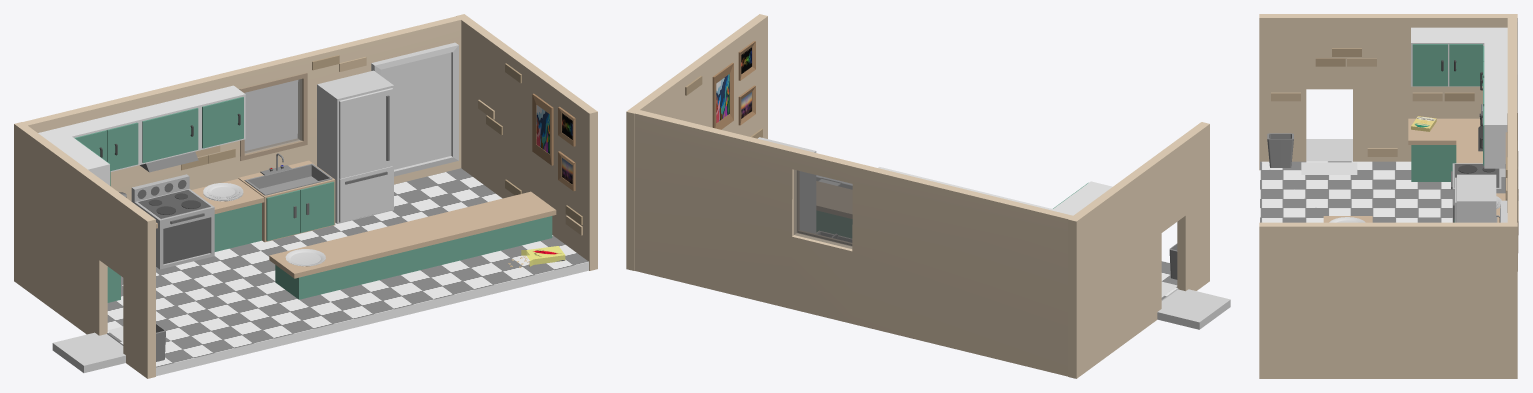
Rendered from Kitchen texture.fbx.
The picture shows the model from 3 angles, left to right: view 1: azimuth 30°, elevation 25°; view 2: azimuth 150°, elevation 25°; view 3: azimuth 270°, elevation 25°; orthographic projection. The views are drawn at different scales.
Parts seen in each view (by area): view 1: pCube1, pCube3, pCube4, pCube2, pCube22, pCube5, Fridge, pCube11, pCube12, pCube13, pCube14, pCube6 (+9 smaller); view 2: pCube2, pCube3, pCube4, pCube14, pCube7, pCube22, pCube5, pCube28, Fridge, pCube29, pCube27; view 3: pCube4, pCube3, pCube1, pCube5, pCube6, pCube2, Fridge, pCube7, pCube44, pCube23, pCube12, pCube38 (+7 smaller).
Part boxes in pixels (x1,y1,x2,y2): pCube1: [107, 168, 588, 376]; pCube3: [14, 122, 155, 378]; pCube4: [456, 14, 597, 270]; pCube2: [22, 14, 468, 201]; pCube22: [269, 191, 556, 299]; pCube5: [38, 85, 245, 185]; Fridge: [317, 70, 393, 223]; pCube11: [371, 42, 458, 176]; pCube12: [131, 174, 214, 269]; pCube13: [238, 160, 335, 242]; pCube14: [244, 79, 301, 153]; pCube6: [107, 178, 264, 302]; pCube2: [627, 108, 1073, 376]; pCube3: [1068, 122, 1209, 378]; pCube4: [626, 14, 767, 270]; pCube14: [794, 170, 852, 248]; pCube7: [1157, 289, 1230, 329]; pCube22: [816, 181, 852, 238]; pCube5: [878, 167, 1112, 215]; pCube28: [712, 62, 733, 129]; Fridge: [758, 137, 816, 233]; pCube29: [738, 85, 755, 125]; pCube27: [738, 41, 755, 80]; pCube4: [1259, 222, 1517, 378]; pCube3: [1259, 14, 1517, 170]; pCube1: [1260, 161, 1452, 222]; pCube5: [1411, 27, 1507, 168]; pCube6: [1408, 118, 1505, 215]; pCube2: [1506, 17, 1518, 271]; Fridge: [1455, 174, 1496, 222]; pCube7: [1306, 139, 1352, 161]; pCube44: [1267, 133, 1293, 167]; pCube23: [1301, 162, 1357, 174]; pCube12: [1452, 163, 1505, 222]; pCube38: [1411, 116, 1436, 131].
Size of the model in its own units: 18.27 by 5.58 by 8.6.
39 materials, 24 textured.
